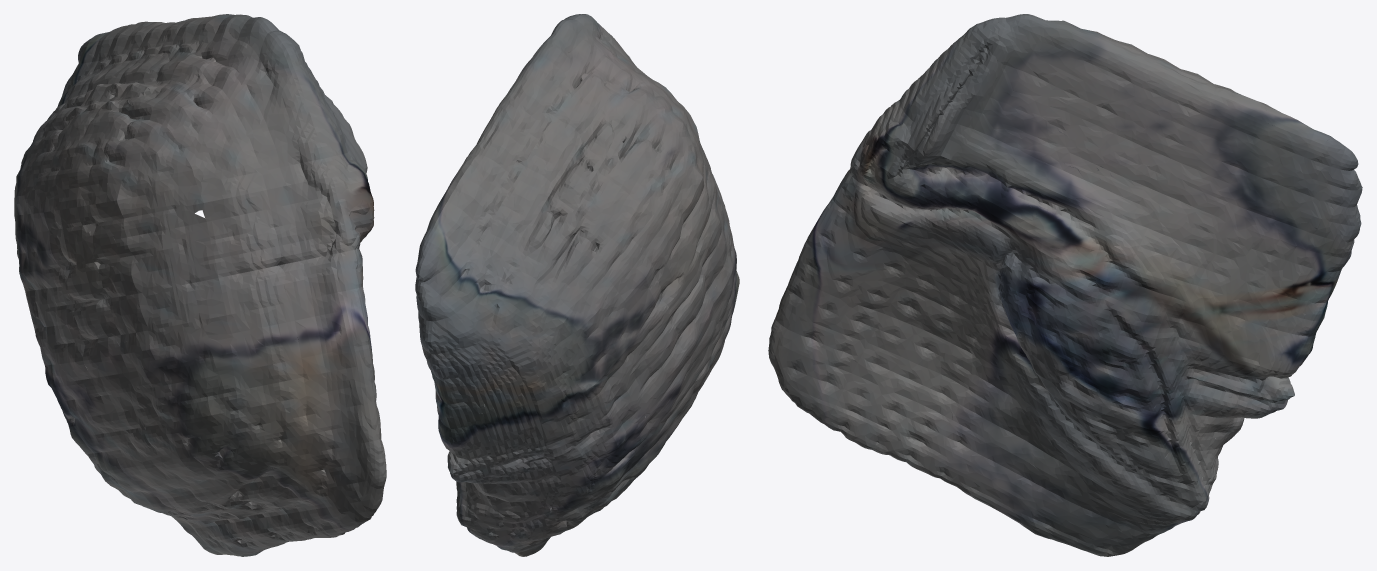
Rendered from heron.glb.
3 views of the same model, side by side, from view 1: azimuth 30°, elevation 25°; view 2: azimuth 150°, elevation 25°; view 3: azimuth 270°, elevation 25° (orthographic). The views are drawn at different scales.
Parts seen in each view (by area): view 1: world; view 2: world; view 3: world.
Boxes of the visible parts, left/top/right/bottom form: world: left=14, top=14, right=386, bottom=556; world: left=415, top=14, right=739, bottom=556; world: left=768, top=14, right=1362, bottom=556.
Size of the model in its own units: 0.5749 by 1.3 by 1.29.
1 material, 1 textured.
